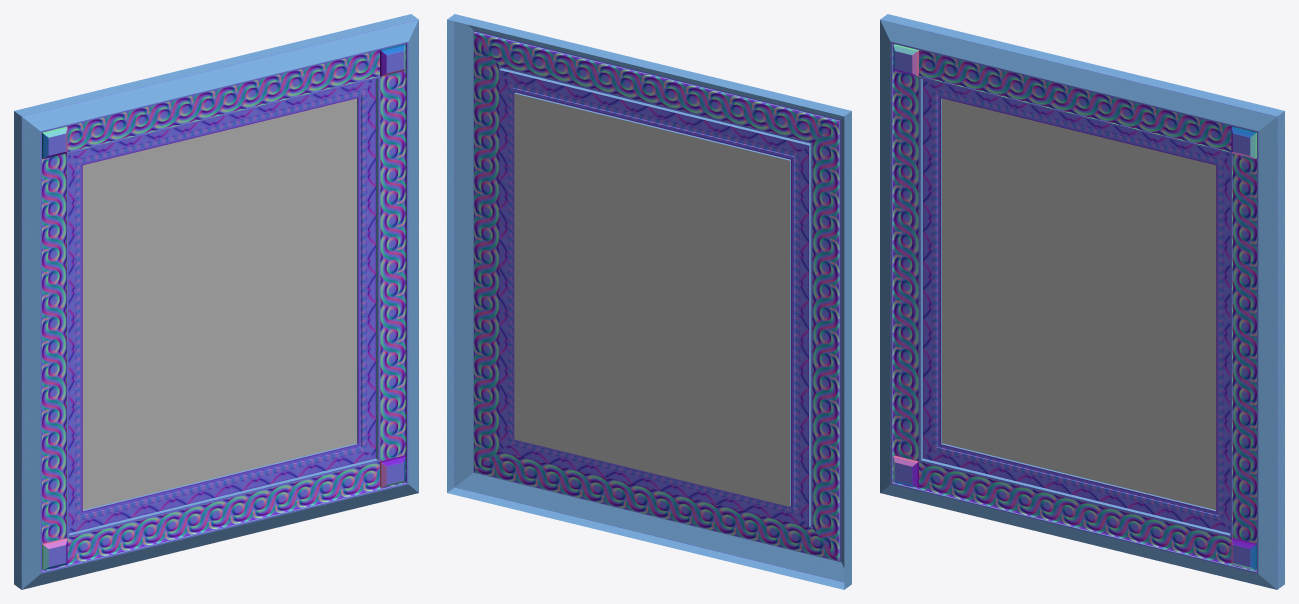
3 views of the same model, side by side, from view 1: azimuth 30°, elevation 25°; view 2: azimuth 150°, elevation 25°; view 3: azimuth 330°, elevation 25° (orthographic).
Visible parts, largest first — view 1: _14_13_frame, _14_13; view 2: _14_13_frame, _14_13; view 3: _14_13_frame, _14_13.
Part boxes in pixels (<box>): _14_13_frame: <box>14,14,418,589</box>; _14_13: <box>82,98,356,509</box>; _14_13_frame: <box>447,14,851,589</box>; _14_13: <box>514,93,789,506</box>; _14_13_frame: <box>880,14,1284,589</box>; _14_13: <box>942,98,1216,509</box>.
Size of the model in its own units: 108 by 123 by 6.45.
